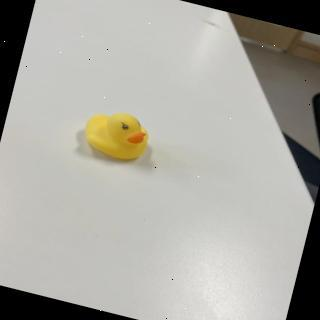duck_regular: (79, 103, 156, 166)
